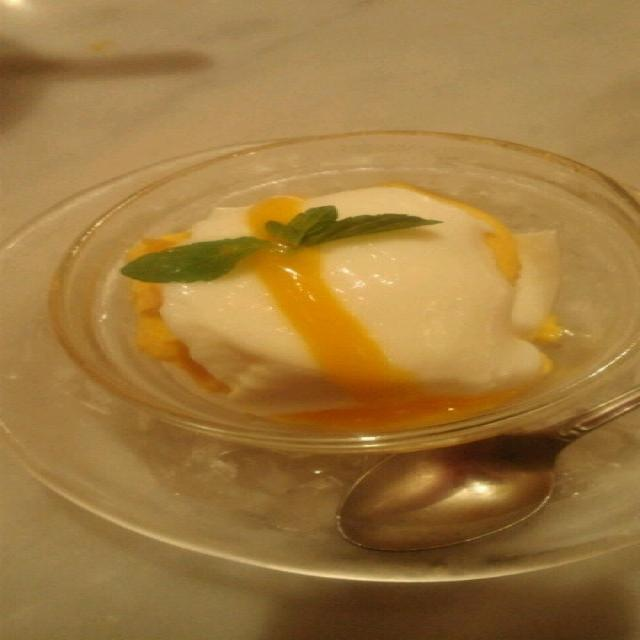面条主食: (92, 70, 521, 589)
